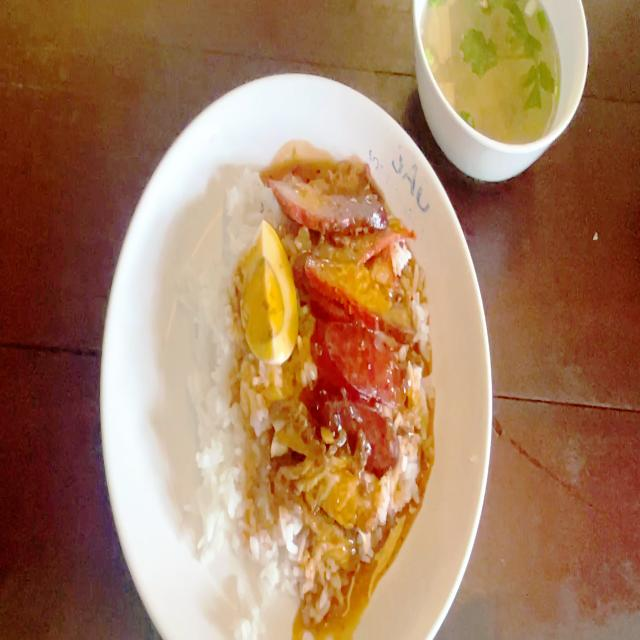boiled_egg: (252, 239, 290, 356)
chainese_sausage: (316, 325, 403, 459)
crispy_pork: (289, 470, 369, 566), (274, 411, 318, 500)
red_pork: (301, 181, 418, 314)
red_pork_and_crispy_pork: (191, 185, 419, 589)
rice: (194, 366, 274, 580), (190, 266, 242, 359), (222, 160, 262, 251)
